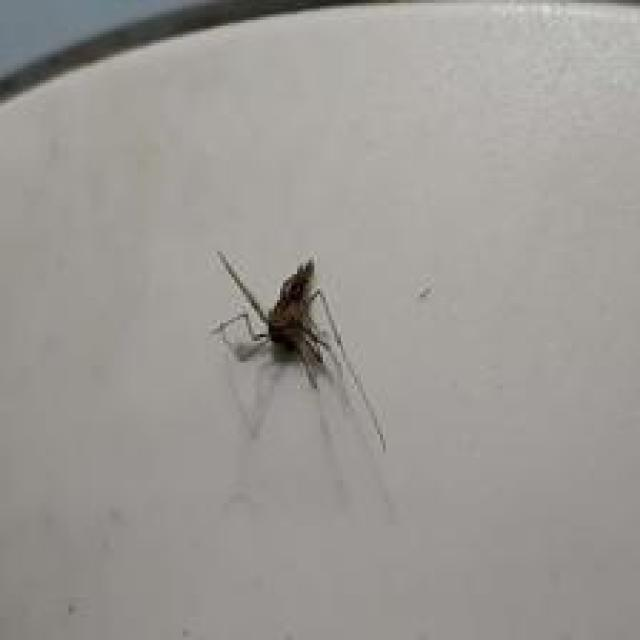Culex: (209, 249, 394, 520)
